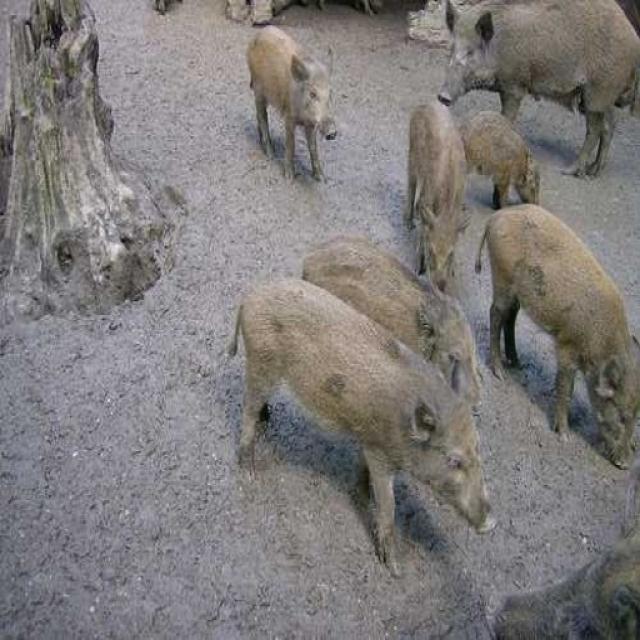pig: (222, 243, 493, 628), (450, 178, 640, 476), (326, 177, 480, 398), (438, 0, 640, 141), (217, 0, 343, 159), (408, 82, 475, 270), (465, 82, 545, 222)
